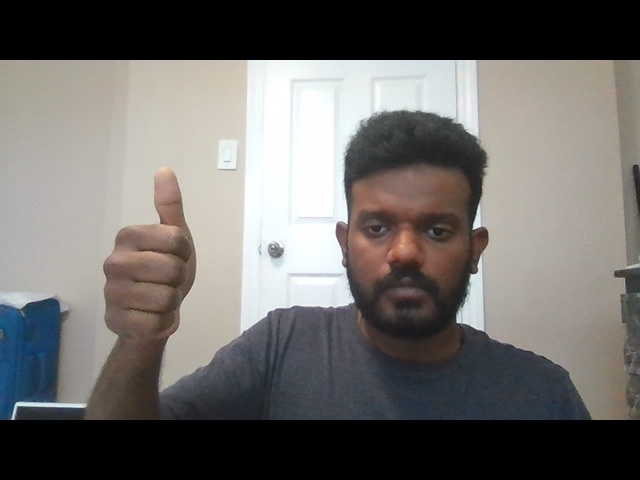yes: (94, 164, 200, 349)
